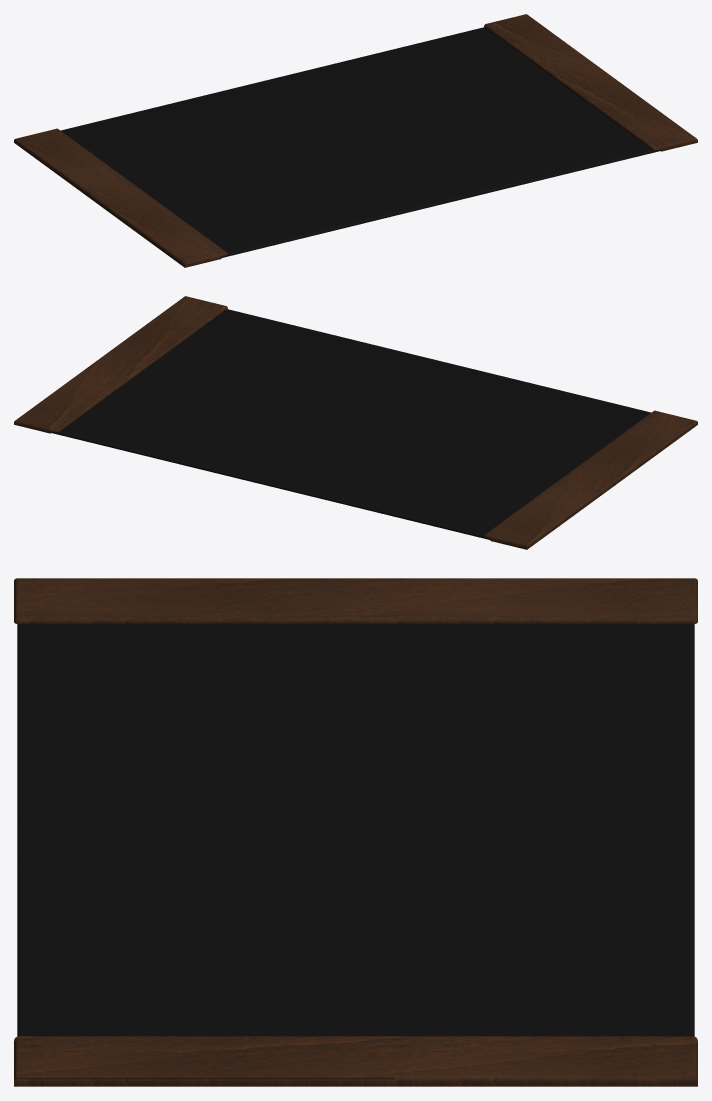
The picture shows the model from 3 angles, top to bottom: view 1: azimuth 30°, elevation 25°; view 2: azimuth 150°, elevation 25°; view 3: azimuth 270°, elevation 25°; orthographic projection. The views are drawn at different scales.
Parts seen in each view (by area): view 1: doska, planka_2, planka_1; view 2: doska, planka_2, planka_1; view 3: doska, planka_1, planka_2.
Part boxes in pixels (x1,y1,x2,y2): doska: (61,27,660,257); planka_2: (14,128,227,267); planka_1: (484,14,697,151); doska: (51,309,650,539); planka_2: (484,410,697,549); planka_1: (14,296,227,433); doska: (17,624,694,1036); planka_1: (14,1036,697,1086); planka_2: (14,578,697,624).
Bounding box in the file's own units: 0.7 × 0.006 × 0.404.
Materials: 1 (1 with a texture image).
